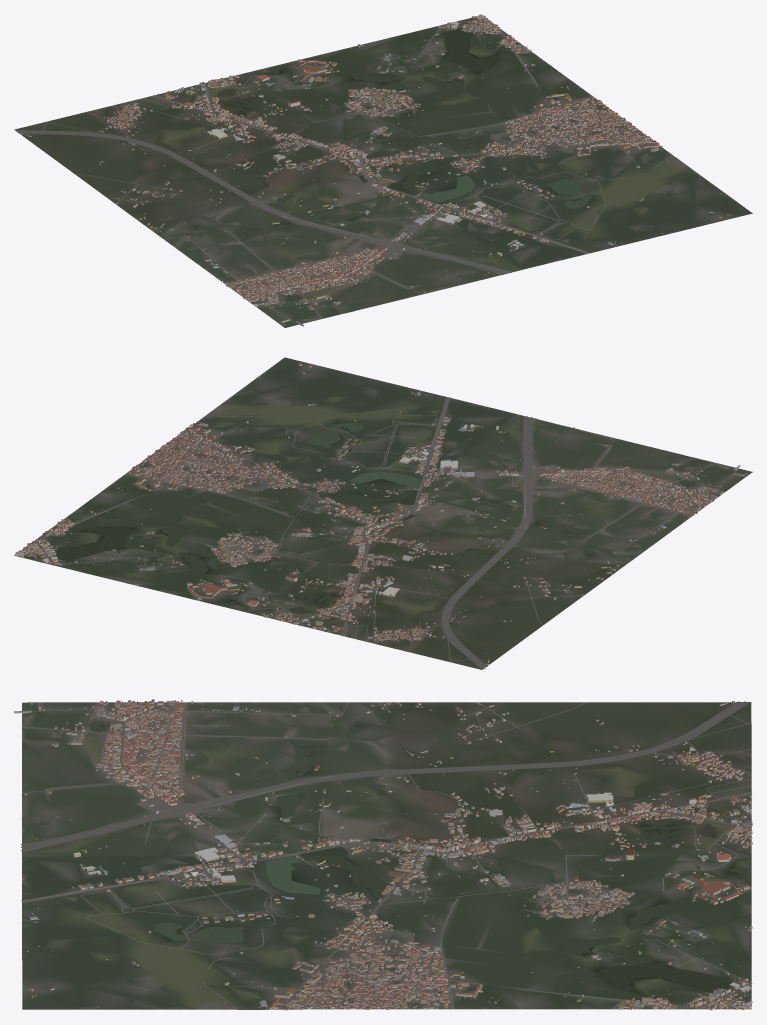
3 views of the same model, one above another, from view 1: azimuth 30°, elevation 25°; view 2: azimuth 150°, elevation 25°; view 3: azimuth 270°, elevation 25° (orthographic). The views are drawn at different scales.
Parts seen in each view (by area): view 1: ground, buildings, roads, water; view 2: ground, buildings, roads, water; view 3: ground, buildings, roads, water.
Boxes of the visible parts, x1,y1,x2,y2 form: ground: [14, 17, 752, 327]; buildings: [21, 14, 732, 326]; roads: [15, 19, 672, 324]; water: [134, 29, 591, 316]; ground: [14, 357, 752, 669]; buildings: [15, 363, 747, 665]; roads: [23, 391, 738, 668]; water: [55, 423, 706, 613]; ground: [22, 702, 751, 1009]; buildings: [14, 699, 752, 1010]; roads: [21, 701, 752, 1009]; water: [22, 706, 745, 991].
Bounding box in the file's own units: 2813 × 26.7 × 2840.
